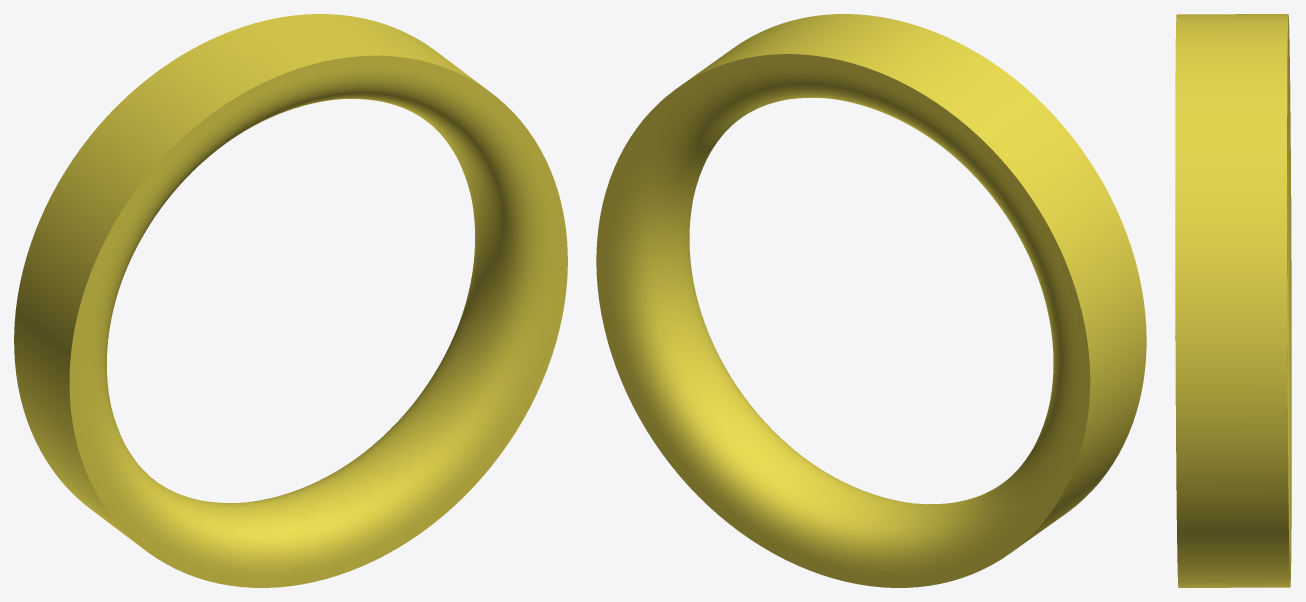
File: ringretafina.glb
3 renders of one model, left to right at view 1: azimuth 30°, elevation 25°; view 2: azimuth 150°, elevation 25°; view 3: azimuth 270°, elevation 25°, orthographic.
Parts seen in each view (by area): view 1: Circle; view 2: Circle; view 3: Circle.
Boxes of the visible parts, <box> form: Circle: <box>14,14,567,587</box>; Circle: <box>596,14,1146,587</box>; Circle: <box>1175,14,1291,587</box>.
Bounding box in the file's own units: 2.52 × 2.52 × 0.5109.
